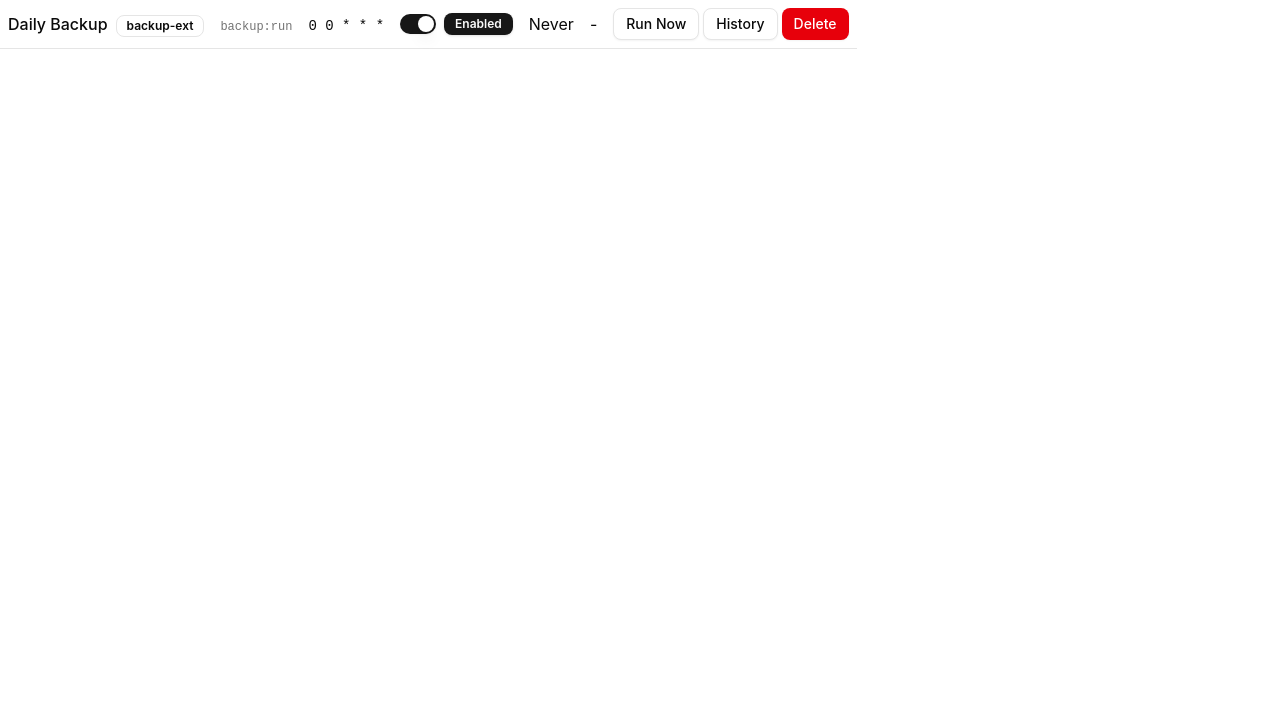
Test: TaskRow › clicking History opens history modal
The width and height of the screenshot is (1280, 720).
Click the button "History" at (740, 24), box [703, 8, 778, 40]
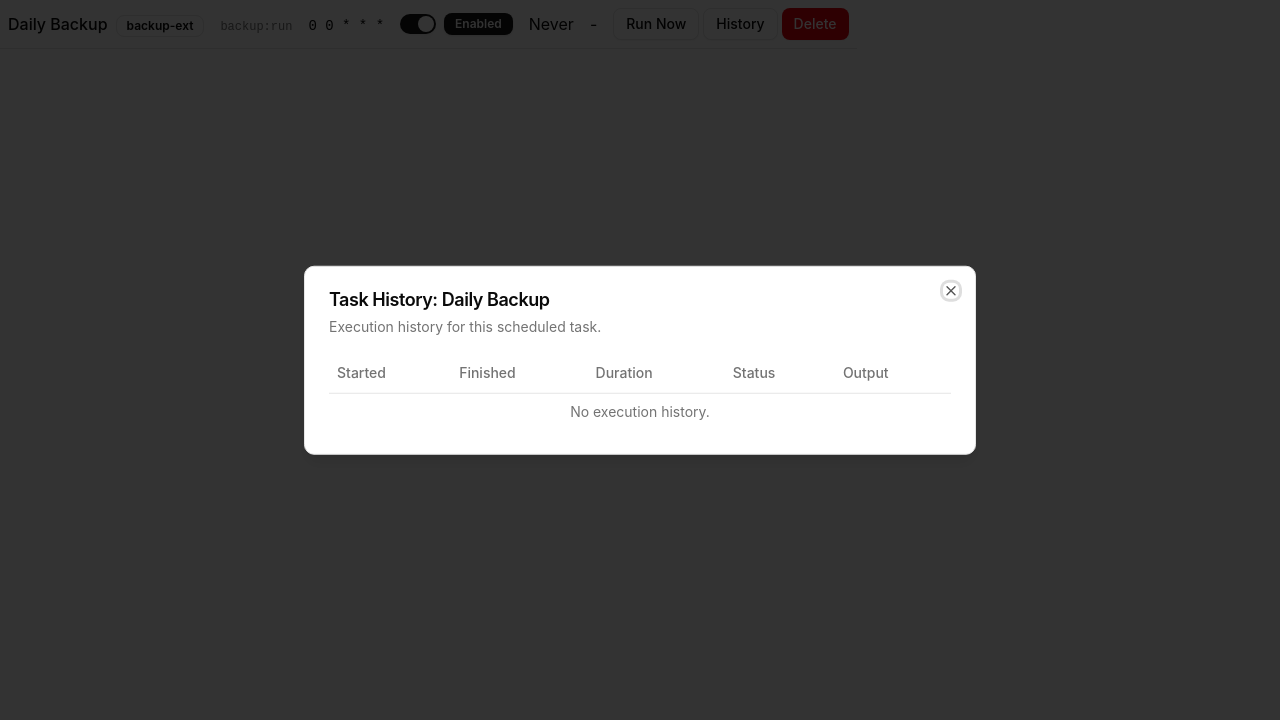
Expected: the heading "Task History: Daily Backup" is shown, [329, 289, 550, 310]
